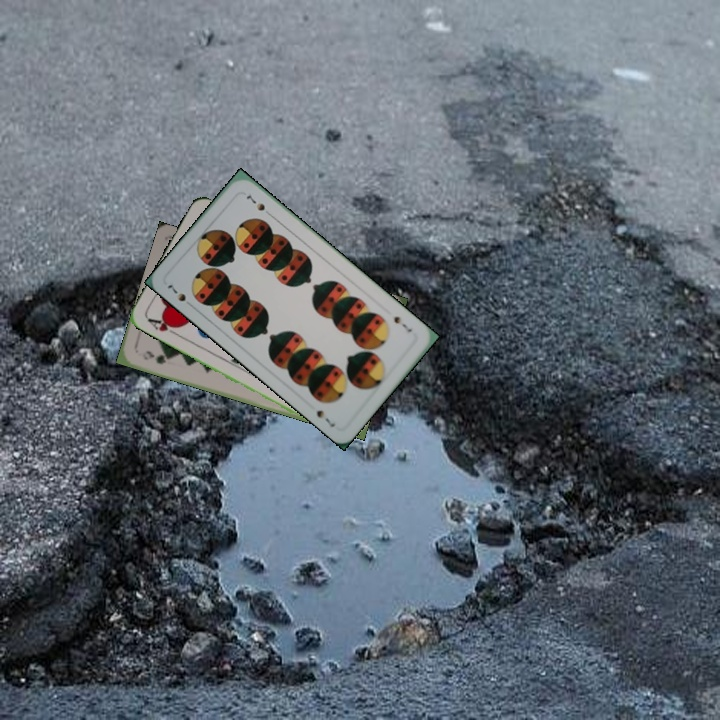G9: (138, 347, 173, 367)
HA: (144, 314, 181, 339)
S7: (163, 280, 196, 310), (390, 312, 415, 335)
